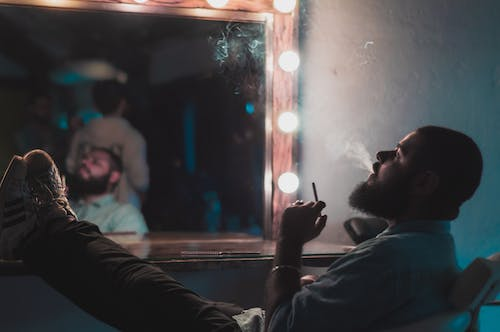cigarette: (310, 180, 322, 219)
